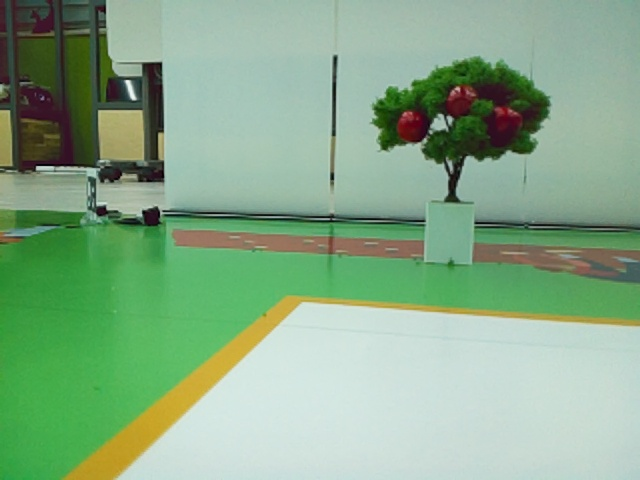apple: (447, 86, 477, 114), (398, 111, 422, 141), (495, 106, 522, 131)
